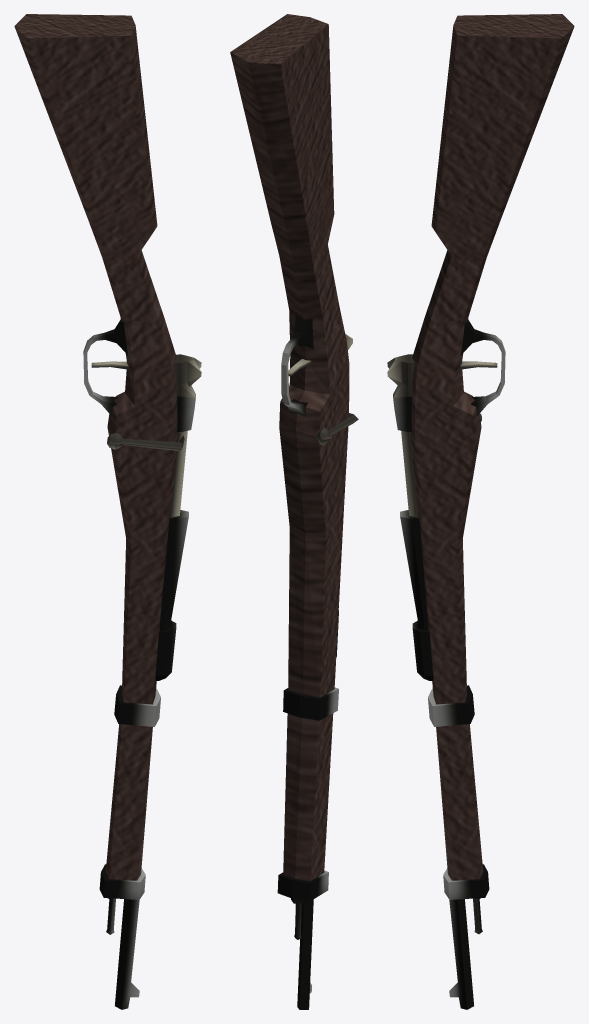
File: M198Rifle548_wtf.obj
3 views of the same model, side by side, from view 1: azimuth 90°, elevation 25°; view 2: azimuth 150°, elevation 25°; view 3: azimuth 270°, elevation 25° (orthographic).
Visible parts, largest first — view 1: group3; view 2: group3; view 3: group3.
Part boxes in pixels (bbox=[...]): group3: bbox=[14, 14, 201, 1009]; group3: bbox=[230, 14, 358, 1009]; group3: bbox=[387, 14, 574, 1009].
Bounding box in the file's own units: 39.53 × 660 × 114.
